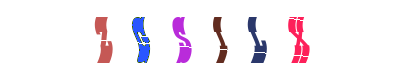G: (141, 0, 221, 80)
I: (166, 0, 246, 80)
L: (167, 0, 247, 80)
S: (165, 0, 245, 80)
X: (190, 0, 270, 80)
Z: (101, 0, 181, 80)
